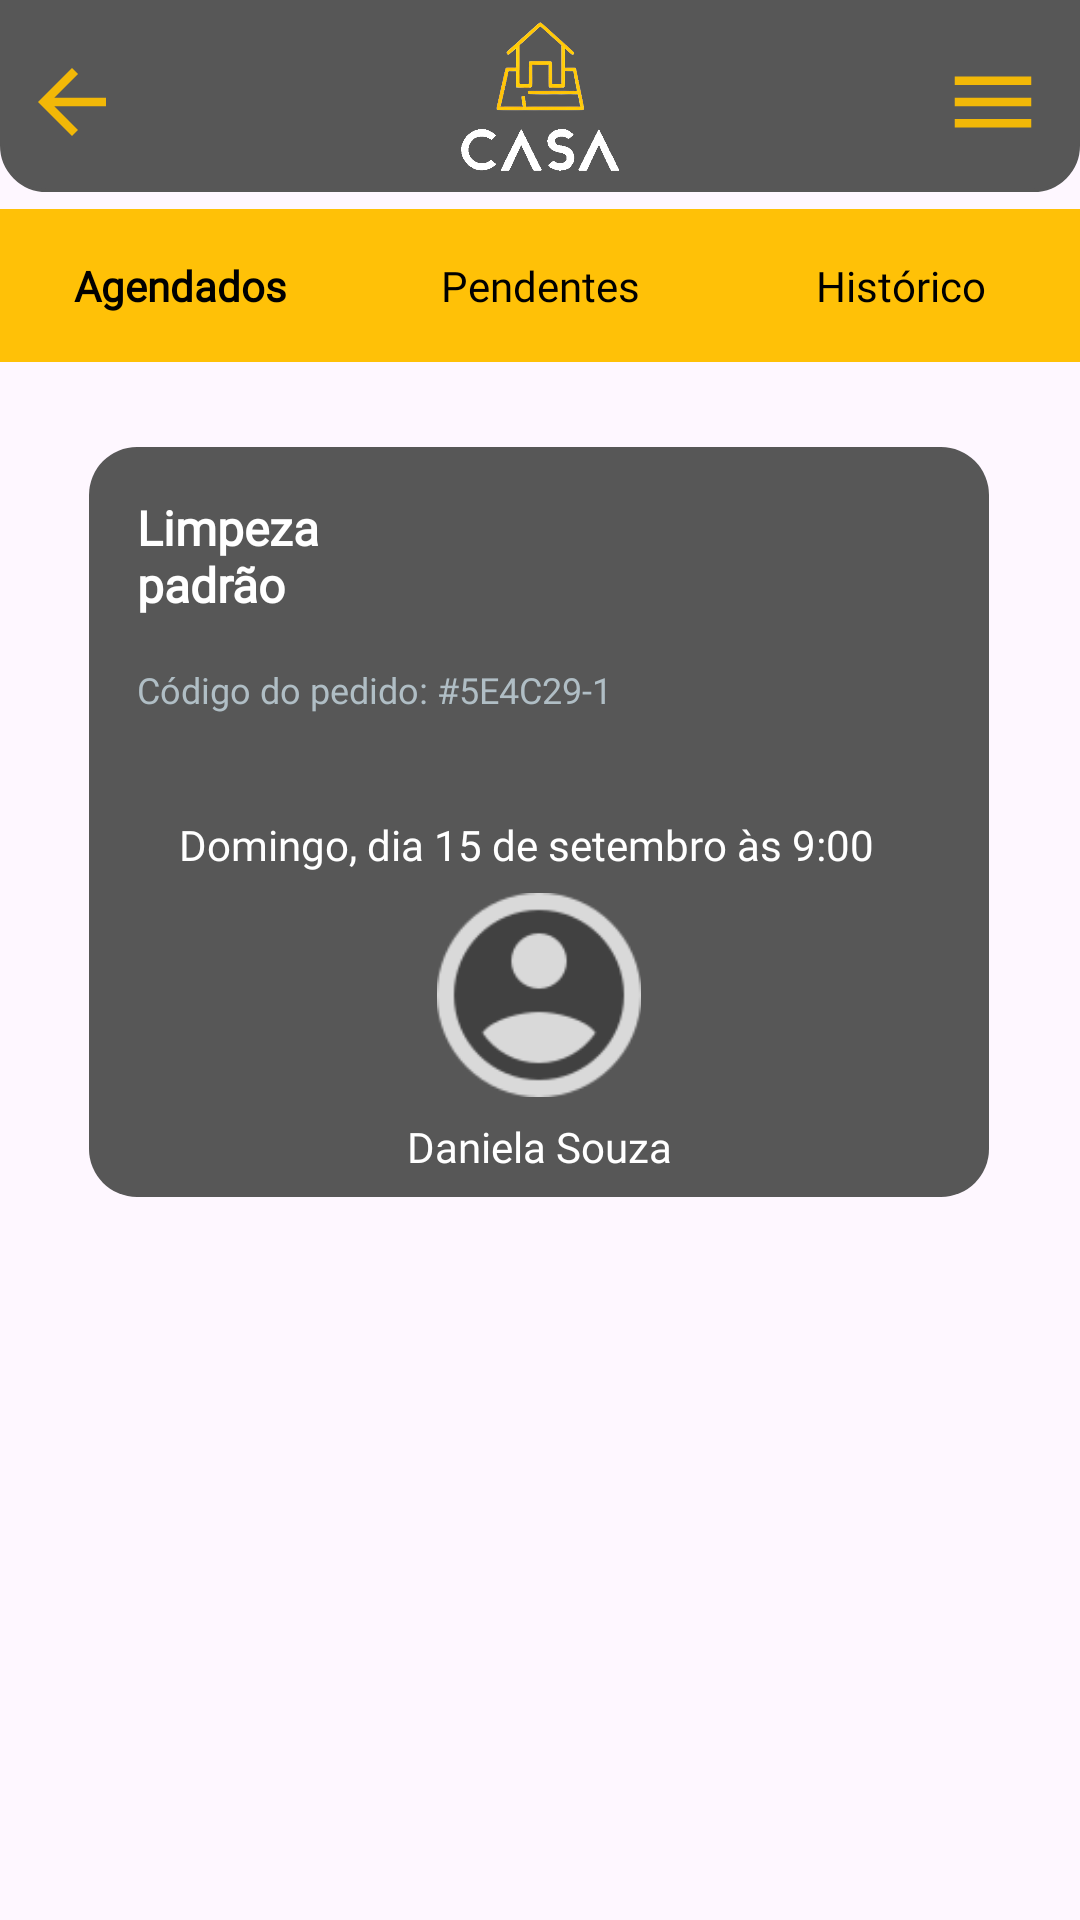

Where icons sit on this 1080w x 1920h app screen, as {"x1": x1, "y1": y1, "x2": x2, "y2": y2}:
arrow back: {"x1": 38, "y1": 68, "x2": 106, "y2": 136}
fotodeperfil generica: {"x1": 437, "y1": 893, "x2": 641, "y2": 1097}
menu: {"x1": 954, "y1": 76, "x2": 1032, "y2": 128}
